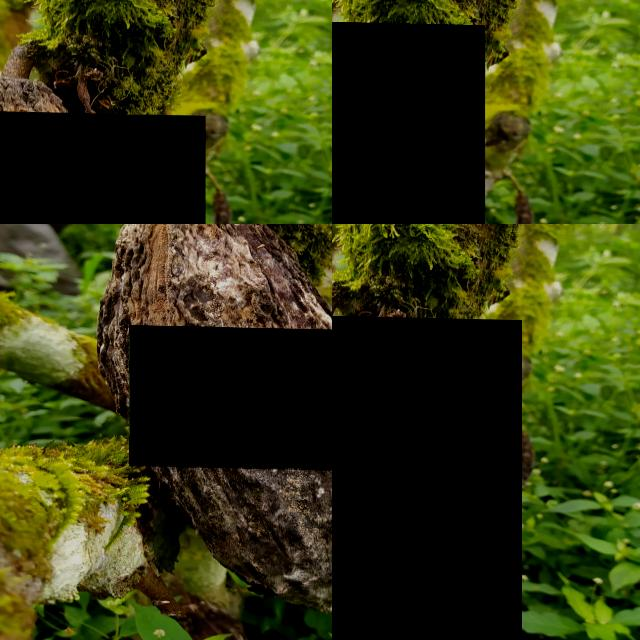Fitoftora: (332, 312, 522, 640), (460, 51, 640, 224), (0, 109, 205, 224)
Monilia: (129, 324, 332, 472), (116, 224, 332, 346)
Sana: (332, 18, 485, 224)
